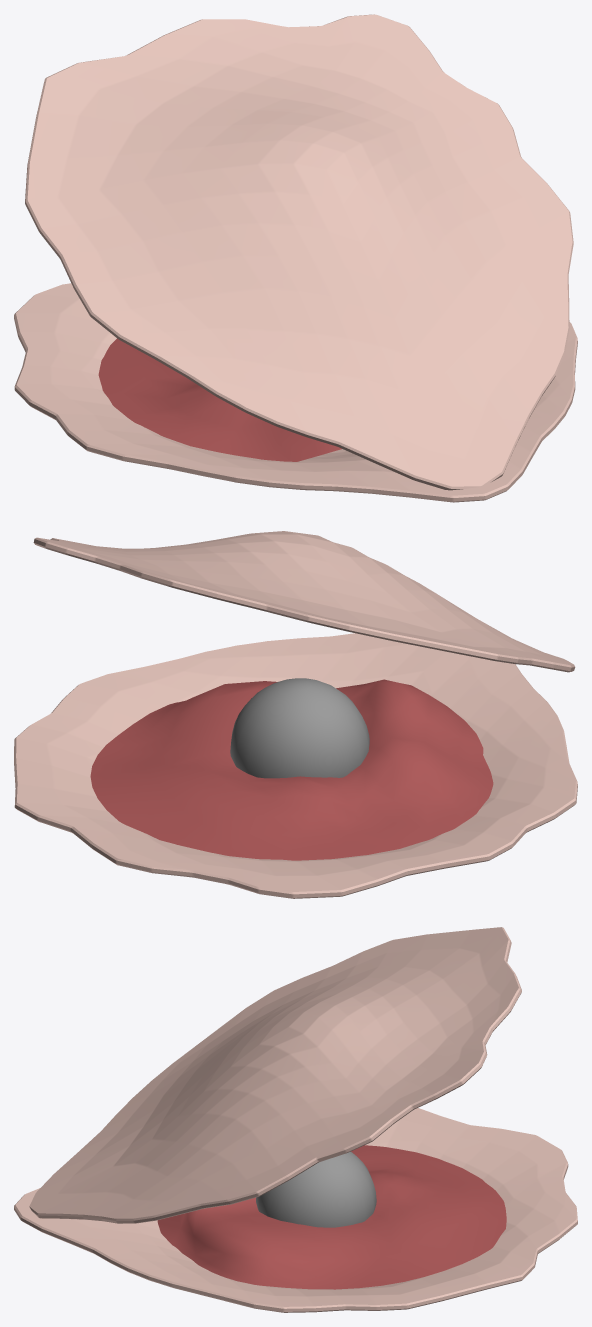
The model's file is Open Seashell Pearl.fbx.
3 views of the same model, one above another, from view 1: azimuth 30°, elevation 25°; view 2: azimuth 150°, elevation 25°; view 3: azimuth 270°, elevation 25° (orthographic). The views are drawn at different scales.
Visible parts, largest first — view 1: Open_Seashell_Pearl; view 2: Open_Seashell_Pearl; view 3: Open_Seashell_Pearl.
Boxes of the visible parts, bbox=[...] form: Open_Seashell_Pearl: bbox=[14, 14, 577, 502]; Open_Seashell_Pearl: bbox=[14, 531, 577, 898]; Open_Seashell_Pearl: bbox=[14, 927, 577, 1312].
Size of the model in its own units: 2.41 by 1.59 by 2.79.
